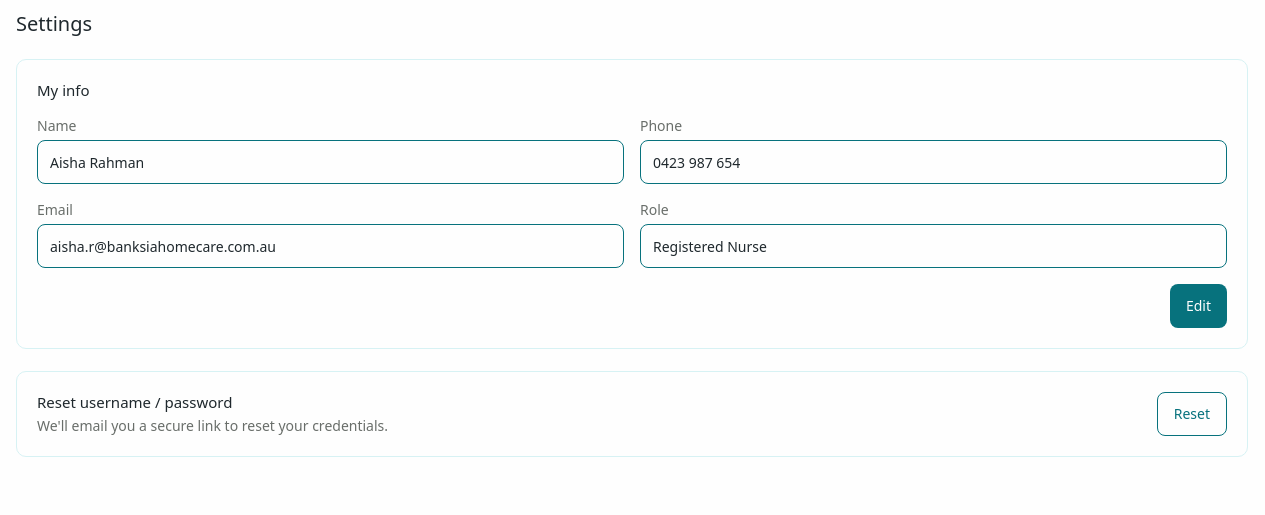
Test: [CAR-UI-04] Carer Settings › [CAR-UI-04][AC-02] the Reset card reads the secure-link copy with a 'Reset' button, and pressing it announces the link was sent
Expected: the heading "Reset username / password" is shown, [37, 392, 232, 412]
Expected: the text "We'll email you a secure link to reset your credentials." is shown, [37, 416, 388, 436]
Click the button "Reset": (1192, 414) [1157, 392, 1227, 436]
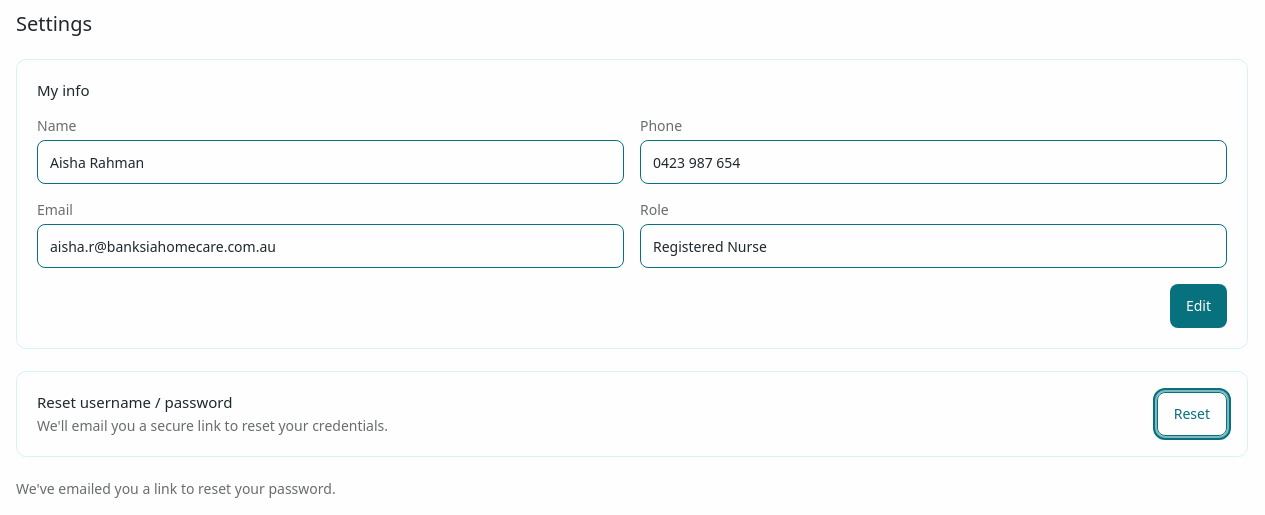
Expected: the message reads "We've emailed you a link to reset your password.", [16, 479, 336, 498]
